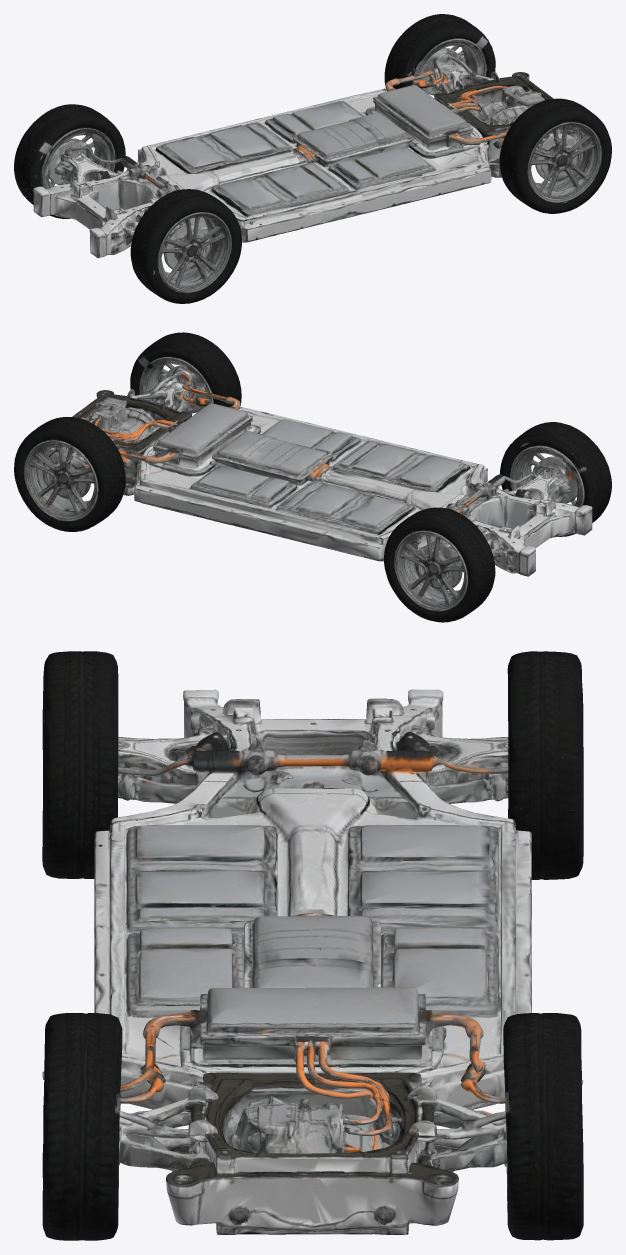
File: sasis-lite.glb
3 renders of one model, top to bottom at view 1: azimuth 30°, elevation 25°; view 2: azimuth 150°, elevation 25°; view 3: azimuth 270°, elevation 25°, orthographic. The views are drawn at different scales.
Bounding box in the file's own units: 1.9 × 0.382 × 0.8988.
1 material, 1 textured.
